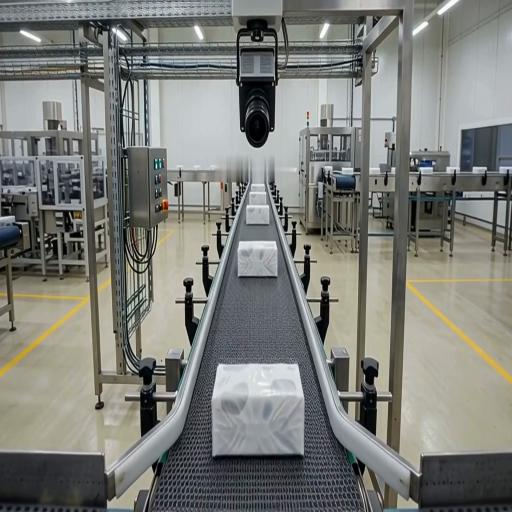good: (212, 365, 304, 456), (238, 241, 278, 278), (247, 205, 269, 225), (250, 192, 266, 205), (251, 184, 265, 192)
